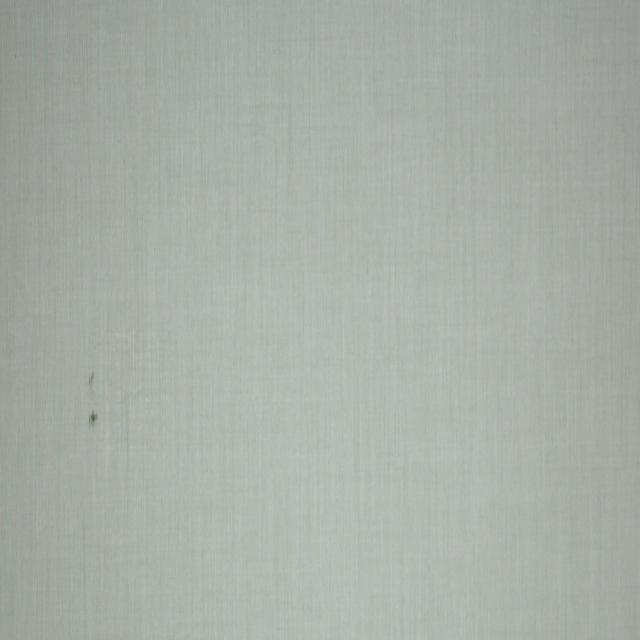dirty: (89, 411, 99, 426), (89, 372, 94, 387)
